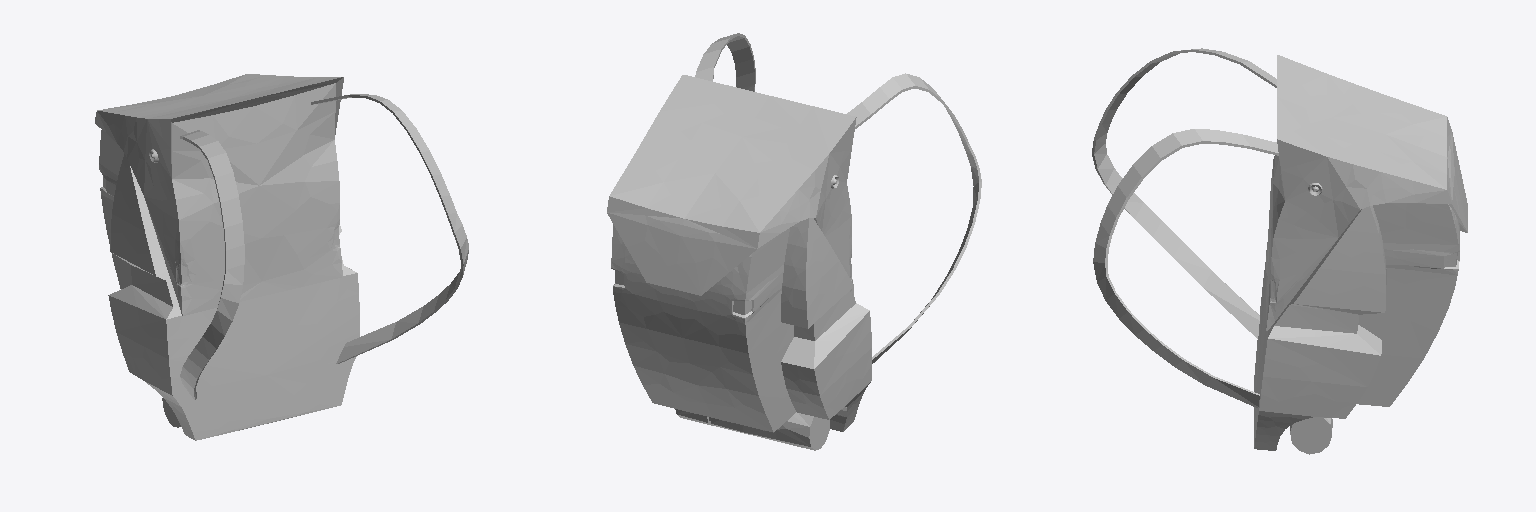
The model's file is Backpack.obj.
3 renders of one model, left to right at view 1: azimuth 30°, elevation 25°; view 2: azimuth 150°, elevation 25°; view 3: azimuth 270°, elevation 25°, orthographic.
Visible parts, largest first — view 1: backpack; view 2: backpack; view 3: backpack.
Part boxes in pixels (x1,y1,x2,y2): backpack: (95,74,468,440); backpack: (607,33,981,450); backpack: (1092,48,1467,454).
Bounding box in the file's own units: 14.75 × 18.05 × 18.48.